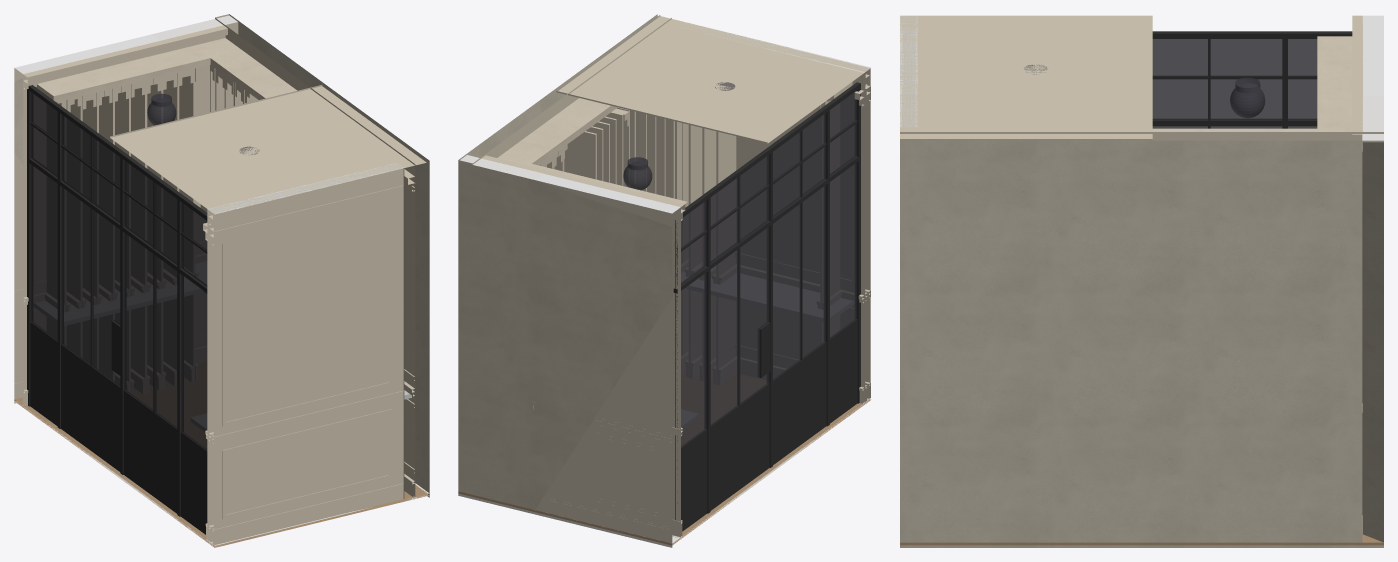
File: wine-cellar-1fb0a59d26aa.glb
3 views of the same model, side by side, from view 1: azimuth 30°, elevation 25°; view 2: azimuth 150°, elevation 25°; view 3: azimuth 270°, elevation 25° (orthographic). The views are drawn at different scales.
Visible parts, largest first — view 1: wine-cellar-bd4023b7987ad736, wine-cellar-cbd4bf73d9724a66, wine-cellar-2575515a05775d9e, wine-cellar-37ce92237345380e, wine-cellar-af97eba351c411ae, wine-cellar-bfb9fa537cd11d1d, wine-cellar-eab7131b7a8a8d98, wine-cellar-3b0077416469e01b, wine-cellar-db219ec113b632b9, wine-cellar-eac1dac976798ccd, wine-cellar-9329b5775314f375, wine-cellar-34e83ca19c16076e (+27 smaller); view 2: wine-cellar-bfb9fa537cd11d1d, wine-cellar-cbd4bf73d9724a66, wine-cellar-005133a37c0fb221, wine-cellar-2575515a05775d9e, wine-cellar-bd4023b7987ad736, wine-cellar-37ce92237345380e, wine-cellar-3b0077416469e01b, wine-cellar-2aeb8de270f937e2, wine-cellar-17d787393b241d8a, wine-cellar-21f62f280c563968, wine-cellar-af97eba351c411ae, wine-cellar-4d3683e07e2b2987 (+27 smaller); view 3: wine-cellar-af97eba351c411ae, wine-cellar-2575515a05775d9e, wine-cellar-cbd4bf73d9724a66, wine-cellar-005133a37c0fb221, wine-cellar-eab7131b7a8a8d98, wine-cellar-3b0077416469e01b, wine-cellar-bd4023b7987ad736, wine-cellar-bfb9fa537cd11d1d, wine-cellar-da912f3793a4069b, wine-cellar-76fec1e12e3db62a, wine-cellar-8da509c3b17684ba, wine-cellar-fed6ebc8ebca3bd7 (+3 smaller).
Part boxes in pixels (x1,y1,x2,y2): wine-cellar-bd4023b7987ad736: (207,163,404,545); wine-cellar-cbd4bf73d9724a66: (30,85,207,450); wine-cellar-2575515a05775d9e: (110,85,426,214); wine-cellar-37ce92237345380e: (30,321,207,534); wine-cellar-af97eba351c411ae: (215,14,429,496); wine-cellar-bfb9fa537cd11d1d: (14,34,160,405); wine-cellar-eab7131b7a8a8d98: (36,38,241,102); wine-cellar-3b0077416469e01b: (14,363,429,547); wine-cellar-db219ec113b632b9: (99,88,114,380); wine-cellar-eac1dac976798ccd: (131,80,147,392); wine-cellar-9329b5775314f375: (212,483,403,545); wine-cellar-34e83ca19c16076e: (222,193,392,426); wine-cellar-bfb9fa537cd11d1d: (535,174,680,543); wine-cellar-cbd4bf73d9724a66: (675,83,857,520); wine-cellar-005133a37c0fb221: (458,158,543,509); wine-cellar-2575515a05775d9e: (556,15,869,143); wine-cellar-bd4023b7987ad736: (677,22,871,402); wine-cellar-37ce92237345380e: (681,319,857,531); wine-cellar-3b0077416469e01b: (458,371,870,545); wine-cellar-2aeb8de270f937e2: (716,131,736,383); wine-cellar-17d787393b241d8a: (500,100,617,165); wine-cellar-21f62f280c563968: (681,272,853,428); wine-cellar-af97eba351c411ae: (458,14,671,171); wine-cellar-4d3683e07e2b2987: (688,124,702,377); wine-cellar-af97eba351c411ae: (900,132,1383,542); wine-cellar-2575515a05775d9e: (900,15,1152,140); wine-cellar-cbd4bf73d9724a66: (1152,32,1351,128); wine-cellar-005133a37c0fb221: (1362,96,1383,542); wine-cellar-eab7131b7a8a8d98: (1317,36,1352,131); wine-cellar-3b0077416469e01b: (900,534,1383,545); wine-cellar-bd4023b7987ad736: (900,15,917,127); wine-cellar-bfb9fa537cd11d1d: (1362,15,1383,96); wine-cellar-da912f3793a4069b: (1152,31,1352,38); wine-cellar-76fec1e12e3db62a: (900,545,1383,547); wine-cellar-8da509c3b17684ba: (1352,15,1362,151); wine-cellar-fed6ebc8ebca3bd7: (1152,119,1317,126).
Size of the model in its own units: 2.03 by 3.05 by 3.28.
16 materials, 4 textured.
